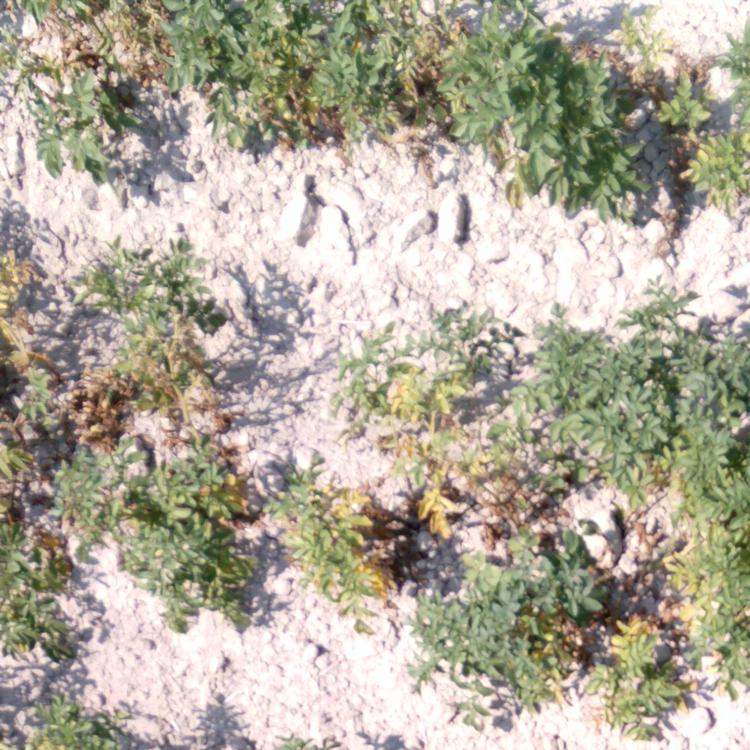healthy: (458, 1, 646, 219), (525, 315, 676, 467), (679, 316, 746, 465), (405, 602, 498, 702), (449, 544, 617, 595), (31, 698, 129, 750), (201, 699, 252, 750), (271, 735, 418, 750)
stressed: (1, 1, 161, 196), (348, 299, 523, 450), (271, 454, 437, 598), (287, 1, 461, 138), (62, 404, 251, 525), (73, 252, 223, 399), (156, 1, 288, 150), (647, 31, 750, 208), (1, 403, 75, 595), (116, 528, 249, 633), (645, 471, 748, 583), (615, 586, 688, 739), (1, 228, 64, 404), (517, 595, 613, 700), (695, 582, 750, 682), (441, 448, 524, 514), (1, 598, 75, 665)
